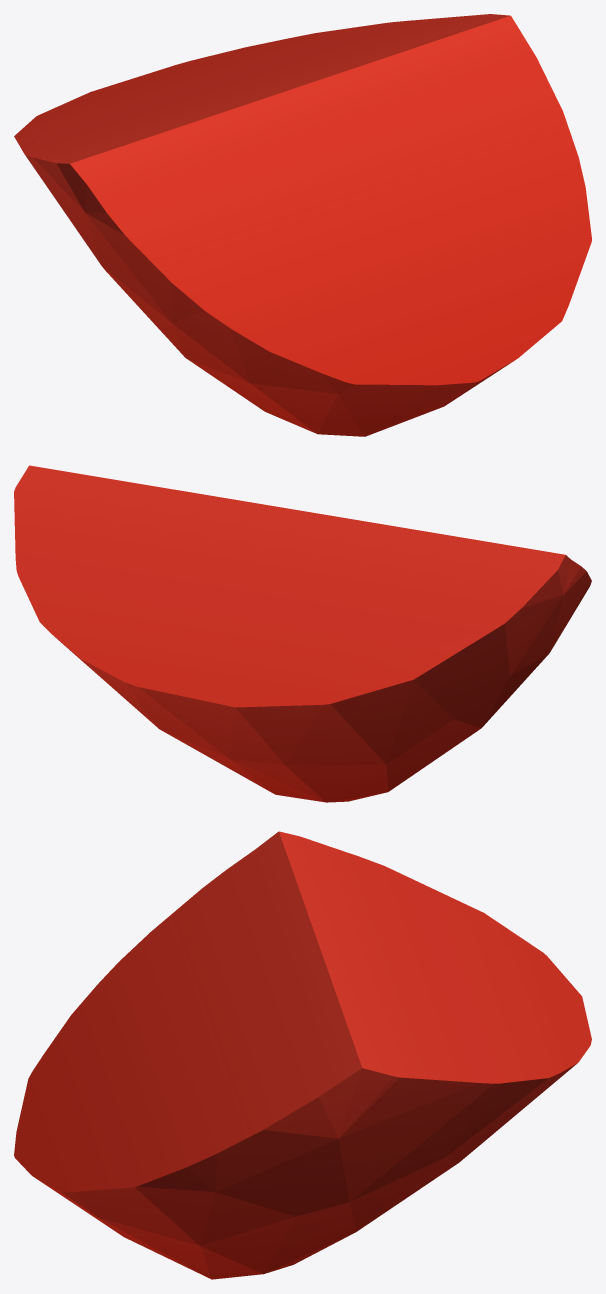
The model's file is HeartPart_1.fbx.
The picture shows the model from 3 angles, top to bottom: view 1: azimuth 30°, elevation 25°; view 2: azimuth 150°, elevation 25°; view 3: azimuth 270°, elevation 25°; orthographic projection. The views are drawn at different scales.
Visible parts, largest first — view 1: HeartPart_1; view 2: HeartPart_1; view 3: HeartPart_1.
Boxes of the visible parts, left/top/right/bottom form: HeartPart_1: left=14, top=14, right=591, bottom=436; HeartPart_1: left=14, top=465, right=591, bottom=802; HeartPart_1: left=14, top=831, right=591, bottom=1279.
Bounding box in the file's own units: 50.3 × 30.43 × 51.18.
Materials: 1 (1 with a texture image).
